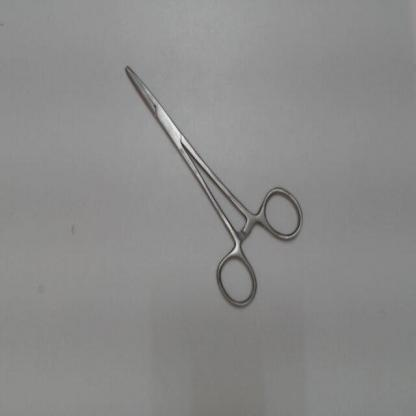Mayo Needle Holder: (111, 47, 315, 318)
